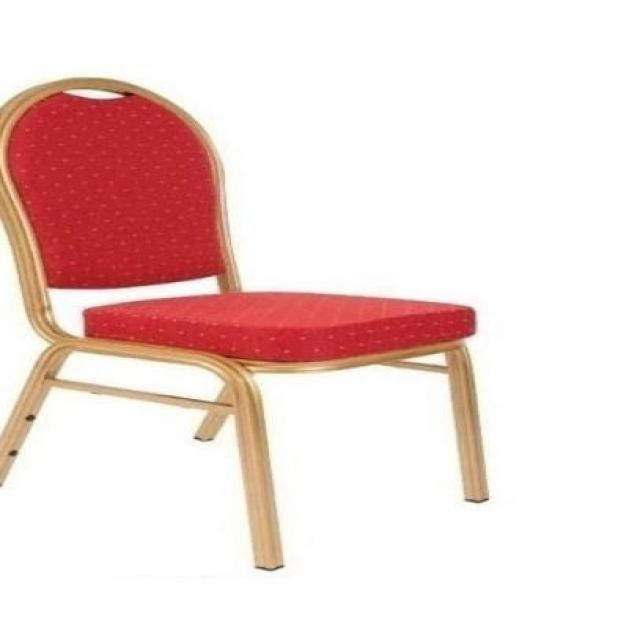chair: (6, 75, 497, 572)
